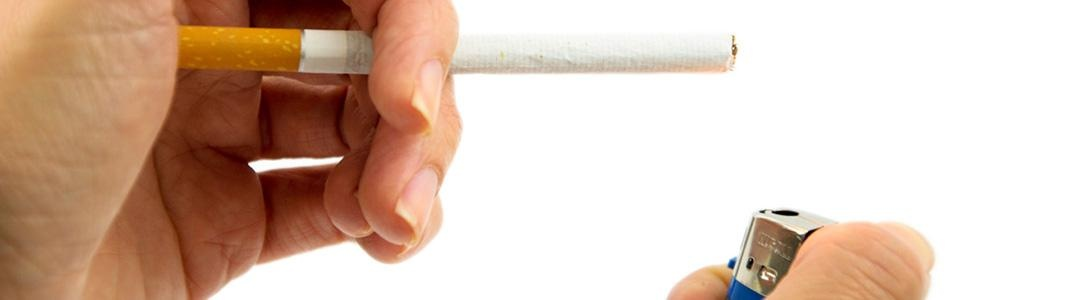sigaretta: (163, 12, 754, 101)
